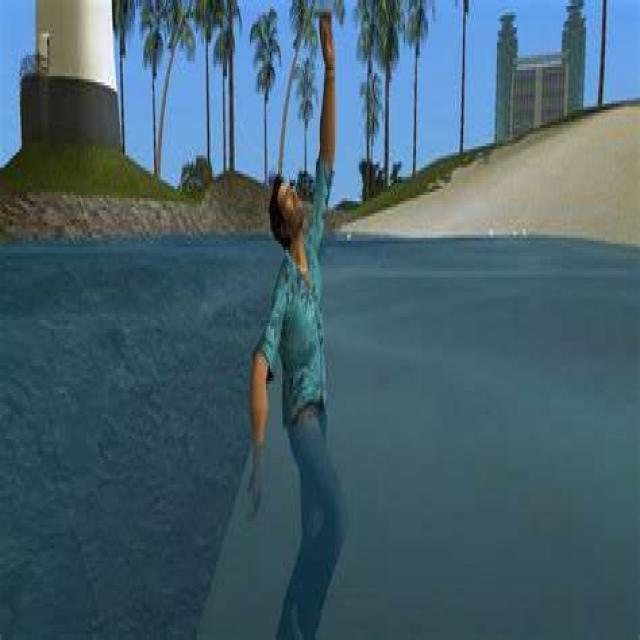drowning: (235, 15, 370, 640)
